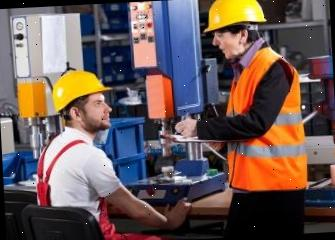helmet: (50, 66, 112, 110), (202, 0, 267, 33)
no_wear: (34, 138, 112, 211)
wear: (220, 53, 306, 193)
